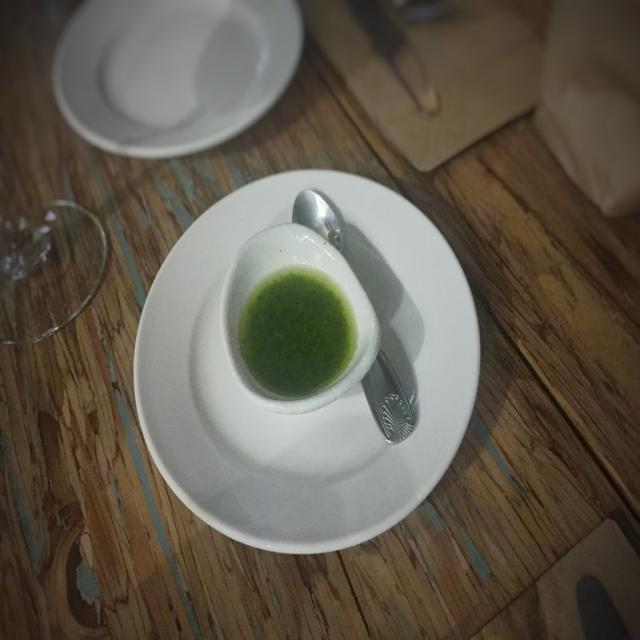non-organic waste: (125, 162, 482, 548)
